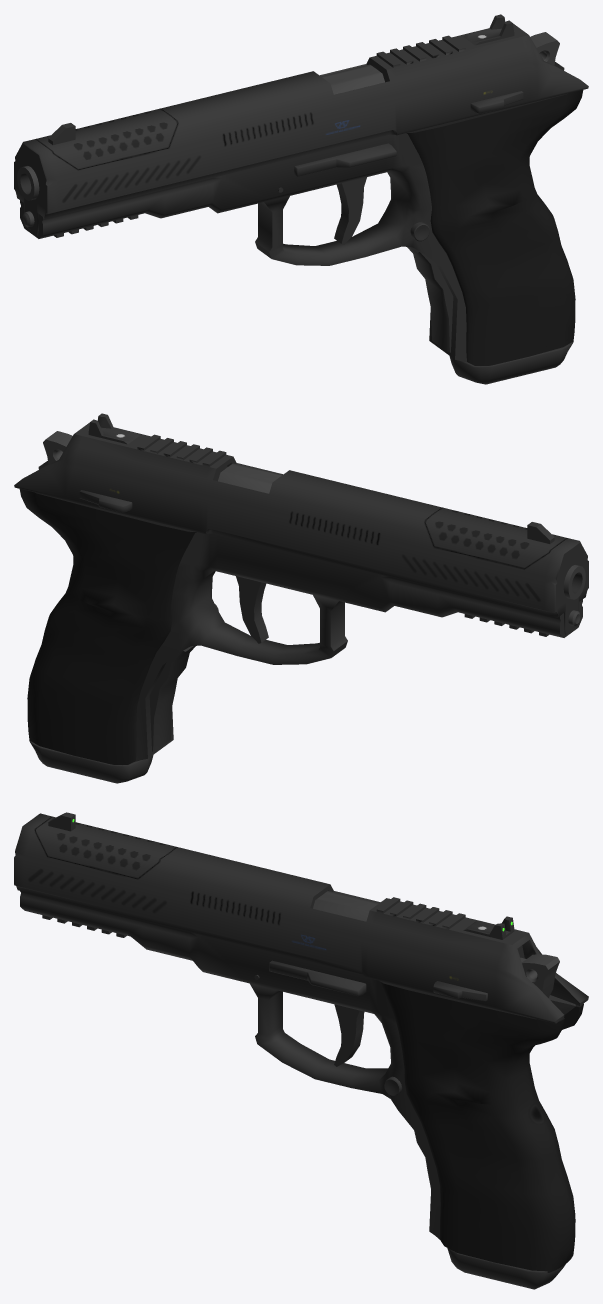
3 renders of one model, top to bottom at view 1: azimuth 30°, elevation 25°; view 2: azimuth 150°, elevation 25°; view 3: azimuth 330°, elevation 25°, orthographic.
Visible parts, largest first — view 1: Body_Pistol_0, Magazine_Pistol_0; view 2: Body_Pistol_0, Magazine_Pistol_0; view 3: Body_Pistol_0, Magazine_Pistol_0.
Boxes of the visible parts, bbox=[...] form: Body_Pistol_0: bbox=[14, 14, 588, 366]; Magazine_Pistol_0: bbox=[449, 342, 572, 384]; Body_Pistol_0: bbox=[14, 413, 588, 765]; Magazine_Pistol_0: bbox=[30, 741, 153, 783]; Body_Pistol_0: bbox=[14, 812, 588, 1272]; Magazine_Pistol_0: bbox=[447, 1248, 565, 1289].
Bounding box in the file's own units: 21.63 × 13.23 × 3.17.
Materials: 2 (1 with a texture image).
